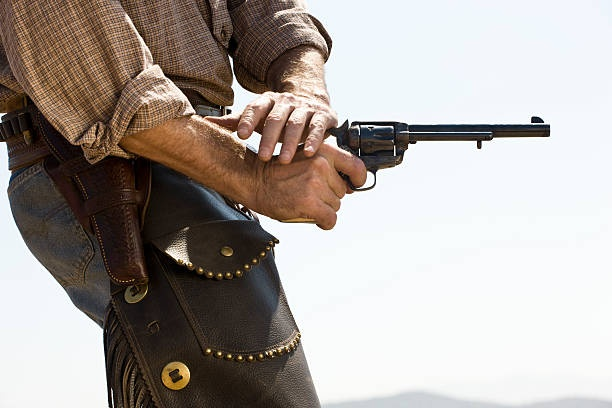pistol: (295, 115, 559, 231)
